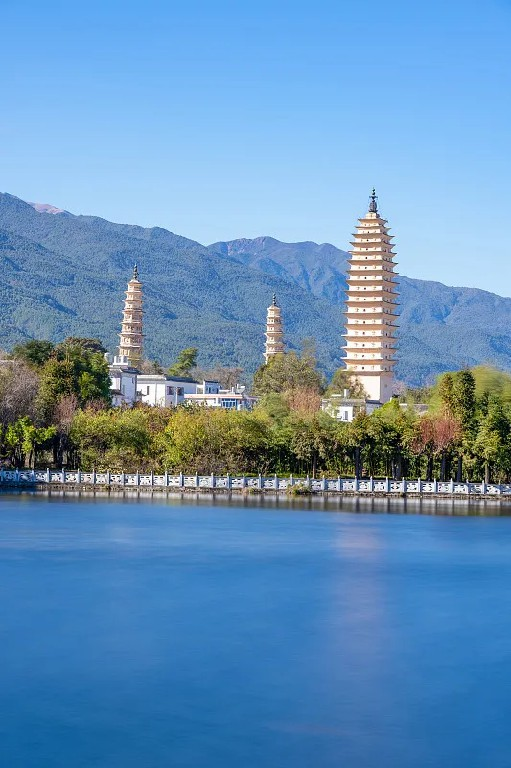ThreePagoda: (339, 189, 399, 407)
